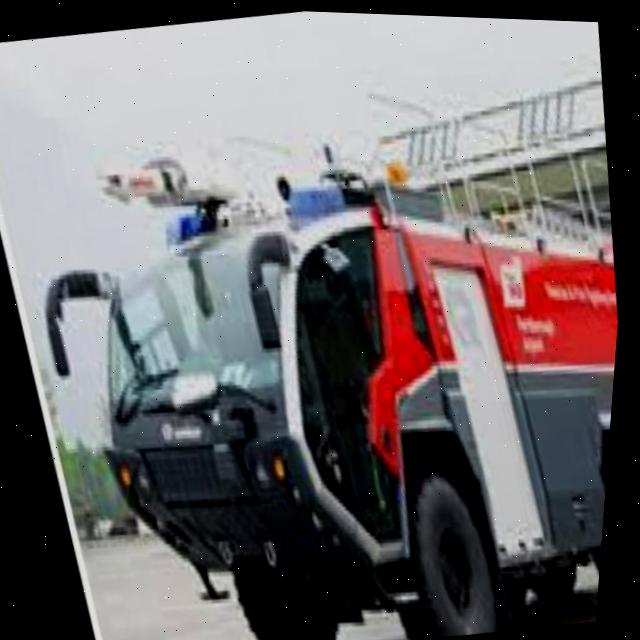emergency: (5, 70, 636, 640)
